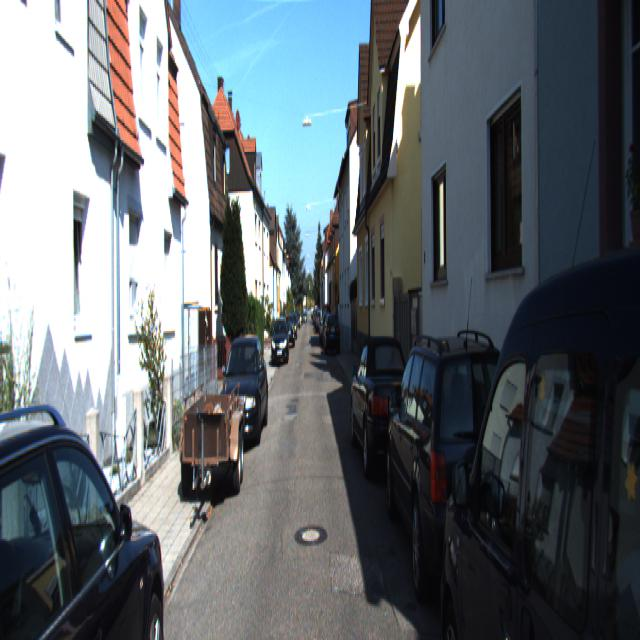Car: (434, 203, 639, 638), (0, 363, 180, 639), (385, 324, 533, 638), (348, 325, 423, 491), (183, 381, 245, 512), (216, 330, 268, 457), (272, 316, 289, 364), (324, 311, 340, 355)
